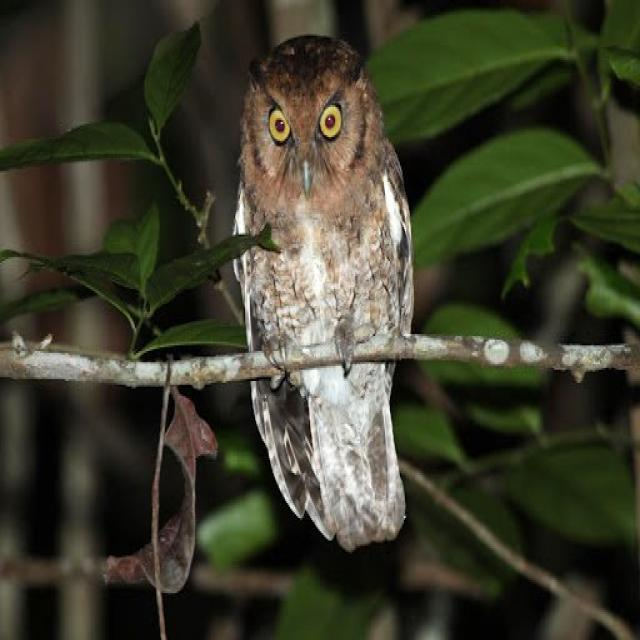Owl: (218, 27, 421, 550)
